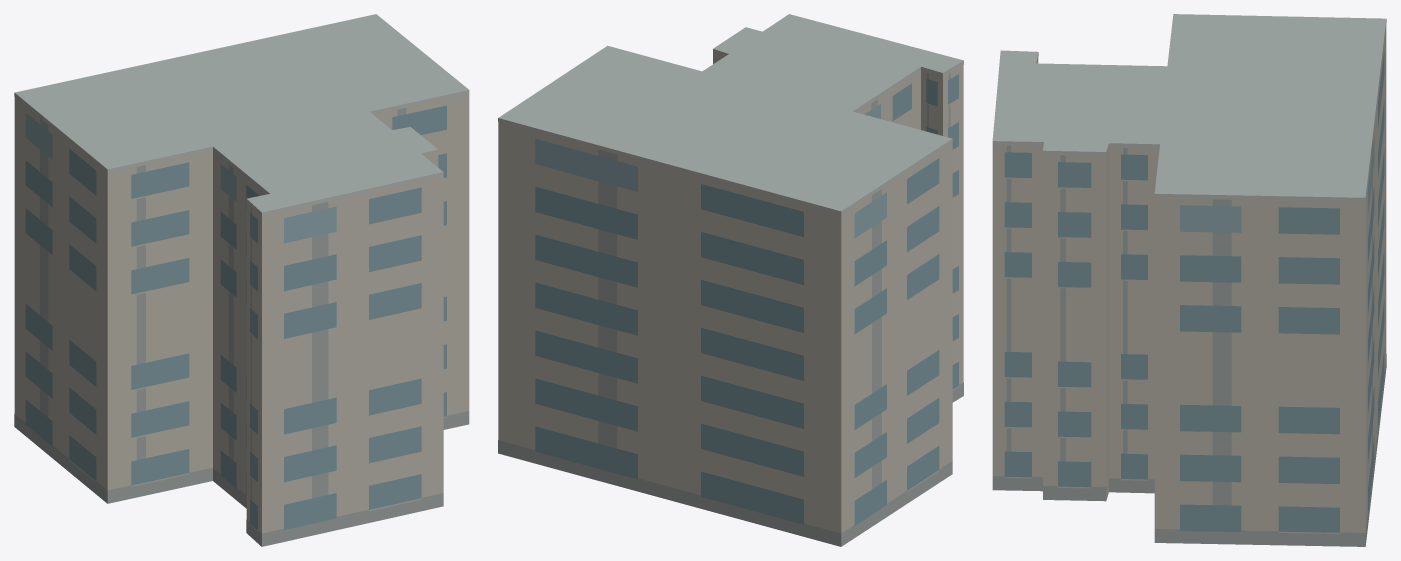
File: survey-upis-32551562.glb
3 renders of one model, left to right at view 1: azimuth 30°, elevation 25°; view 2: azimuth 150°, elevation 25°; view 3: azimuth 270°, elevation 25°, orthographic. The views are drawn at different scales.
Visible parts, largest first — view 1: survey-upis-32551562.tmp; view 2: survey-upis-32551562.tmp; view 3: survey-upis-32551562.tmp.
Boxes of the visible parts, <box> form: survey-upis-32551562.tmp: <box>14,14,469,546</box>; survey-upis-32551562.tmp: <box>498,14,963,546</box>; survey-upis-32551562.tmp: <box>992,14,1386,546</box>.
Bounding box in the file's own units: 22.25 × 19.7 × 20.15.
